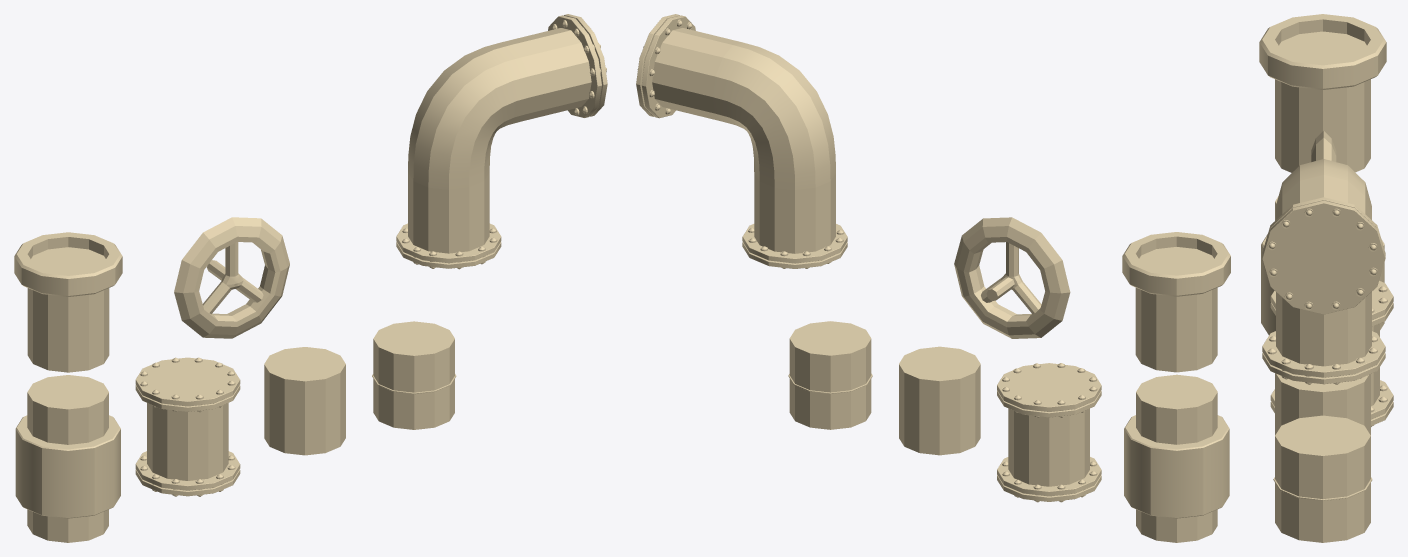
File: Pipes.fbx
3 views of the same model, side by side, from view 1: azimuth 30°, elevation 25°; view 2: azimuth 150°, elevation 25°; view 3: azimuth 270°, elevation 25° (orthographic). The views are drawn at different scales.
Visible parts, largest first — view 1: pCylinder15, ThickPipe, VentPipe, pCylinder5, PipeWithLine, Pipe, pTorus1, pCylinder12; view 2: pCylinder15, ThickPipe, VentPipe, pCylinder5, PipeWithLine, Pipe, pTorus1, pCylinder12; view 3: pCylinder15, VentPipe, PipeWithLine, Pipe, pCylinder5, ThickPipe, pTorus1.
Part boxes in pixels (x1,y1,x2,y2): pCylinder15: (396,14,607,268); ThickPipe: (15,375,120,542); VentPipe: (14,232,122,372); pCylinder5: (135,357,240,496); PipeWithLine: (372,321,456,429); Pipe: (264,347,345,455); pTorus1: (174,217,289,338); pCylinder12: (202,242,263,314); pCylinder15: (636,14,847,268); ThickPipe: (1124,374,1229,542); VentPipe: (1122,232,1230,372); pCylinder5: (997,363,1101,501); PipeWithLine: (788,321,872,429); Pipe: (899,346,980,455); pTorus1: (954,217,1070,338); pCylinder12: (981,242,1041,314); pCylinder15: (1262,159,1385,384); VentPipe: (1259,14,1386,172); PipeWithLine: (1273,415,1372,542); Pipe: (1275,373,1370,435); pCylinder5: (1270,280,1393,425); ThickPipe: (1261,196,1384,334); pTorus1: (1311,130,1336,161).
Bounding box in the file's own units: 2.42 × 1.57 × 0.4253.
